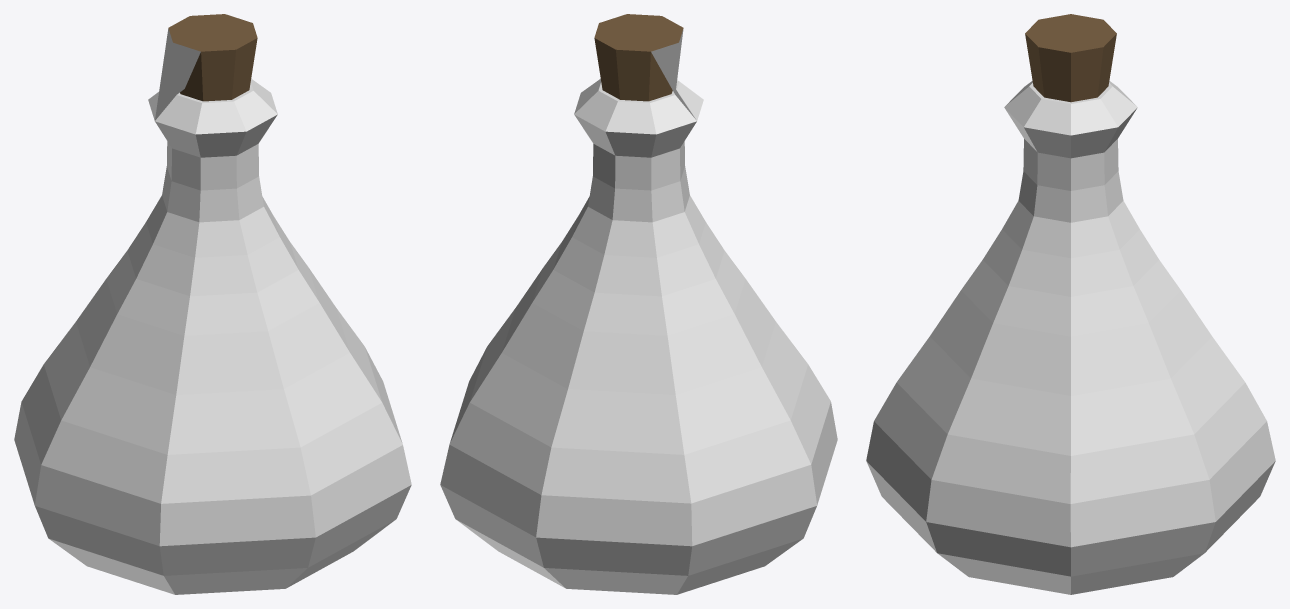
File: flask_full.fbx
The picture shows the model from 3 angles, left to right: view 1: azimuth 30°, elevation 25°; view 2: azimuth 150°, elevation 25°; view 3: azimuth 270°, elevation 25°; orthographic projection.
Visible parts, largest first — view 1: Cylinder; view 2: Cylinder; view 3: Cylinder.
Boxes of the visible parts, x1,y1,x2,y2 form: Cylinder: (14,14,411,594); Cylinder: (440,14,837,594); Cylinder: (866,14,1275,594).
Size of the model in its own units: 347 by 467 by 347.
